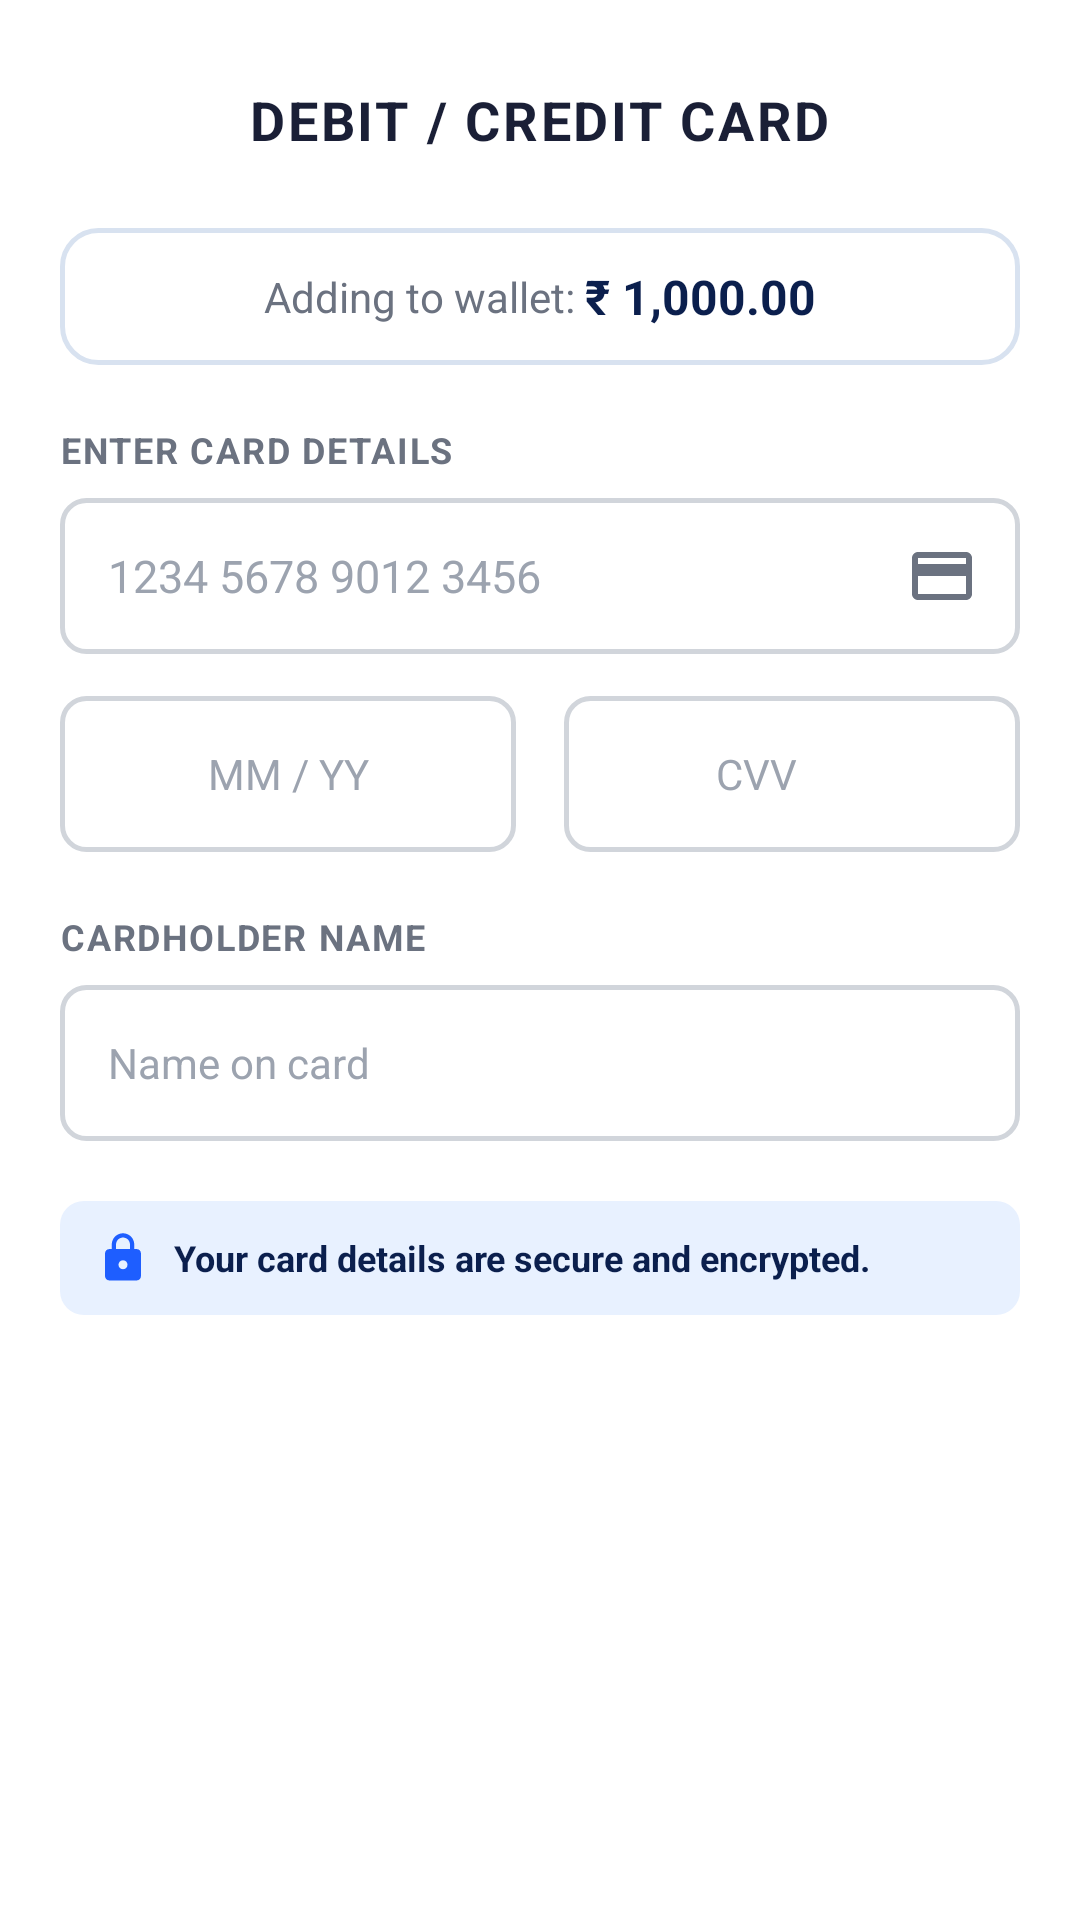

Icon bounding boxes for this 1080px x 1920px phone screenshot, format bbox=[x1, y1, x2, y2]:
Card icon: bbox=[912, 552, 972, 600]
Lock icon: bbox=[105, 1233, 141, 1281]
